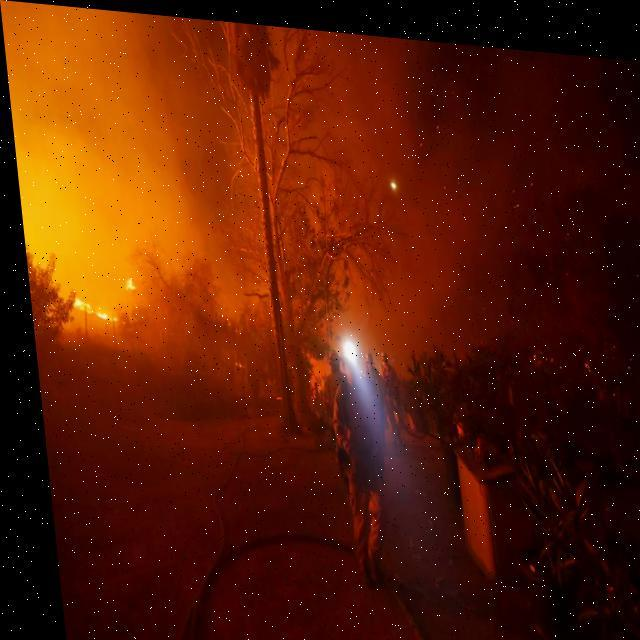Fire: (62, 286, 114, 320), (119, 277, 132, 292)
